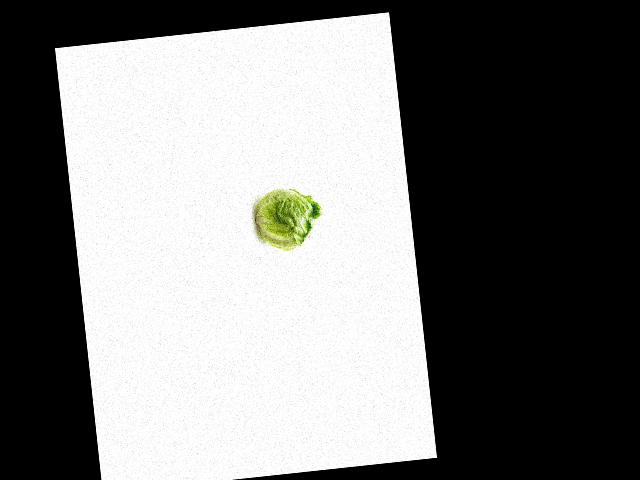lettuce: (249, 182, 326, 259)
